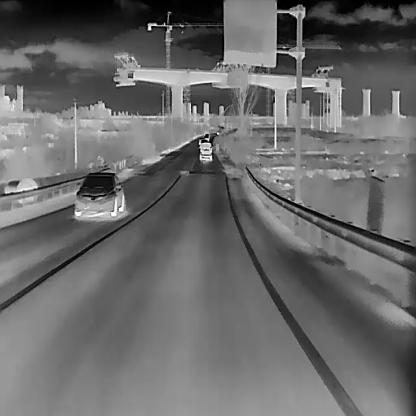car: (74, 170, 124, 218), (198, 140, 213, 161), (198, 135, 204, 143), (204, 132, 209, 139), (216, 130, 218, 133)
